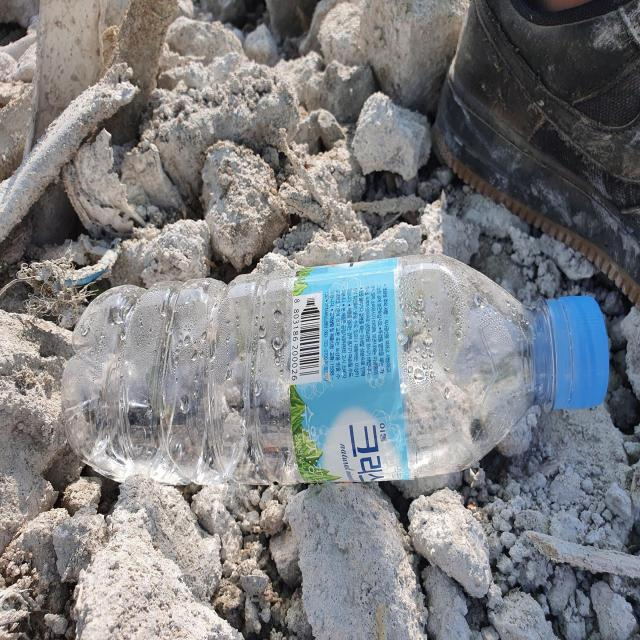plastic: (61, 256, 610, 485)
